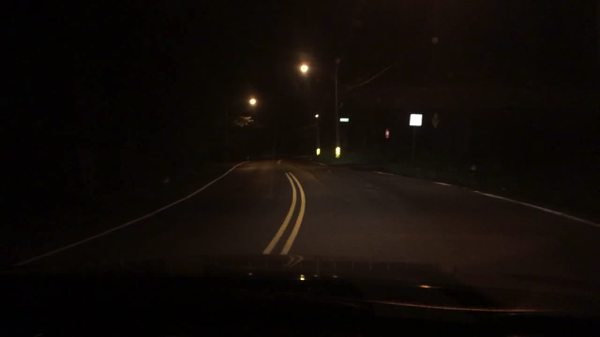traffic sign: (431, 110, 441, 129), (410, 114, 422, 126), (385, 127, 391, 140), (336, 145, 342, 158), (339, 117, 350, 123), (316, 147, 322, 156)
